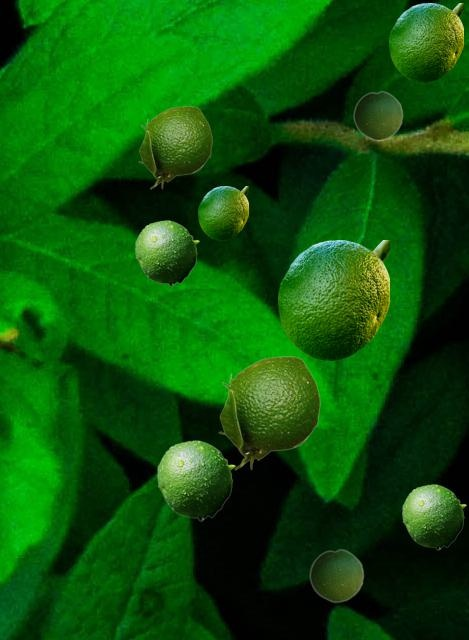dalandan: (278, 240, 388, 359), (218, 356, 319, 469), (157, 440, 234, 520), (138, 106, 211, 188), (389, 3, 462, 81), (402, 484, 465, 549), (135, 220, 198, 285), (309, 548, 363, 602), (198, 186, 247, 239), (353, 90, 402, 140)
